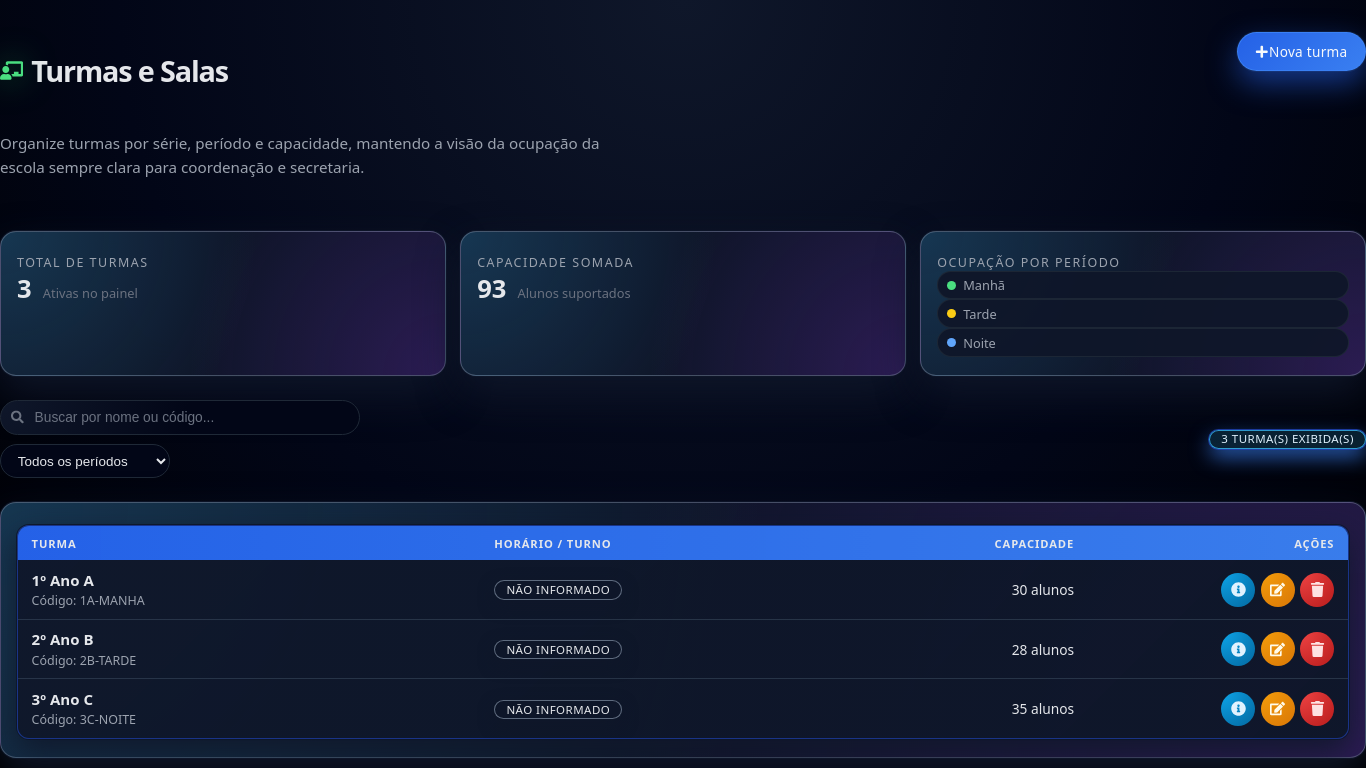
Test case: ClassRoomsPage (dashboard) › filtra por período (manhã, tarde, noite)
The image size is (1366, 768).
# Filtrar somente manhã
Select "Somente manhã" in the dropdown showing "Todos os períodos": (85, 461) [0, 444, 170, 478]
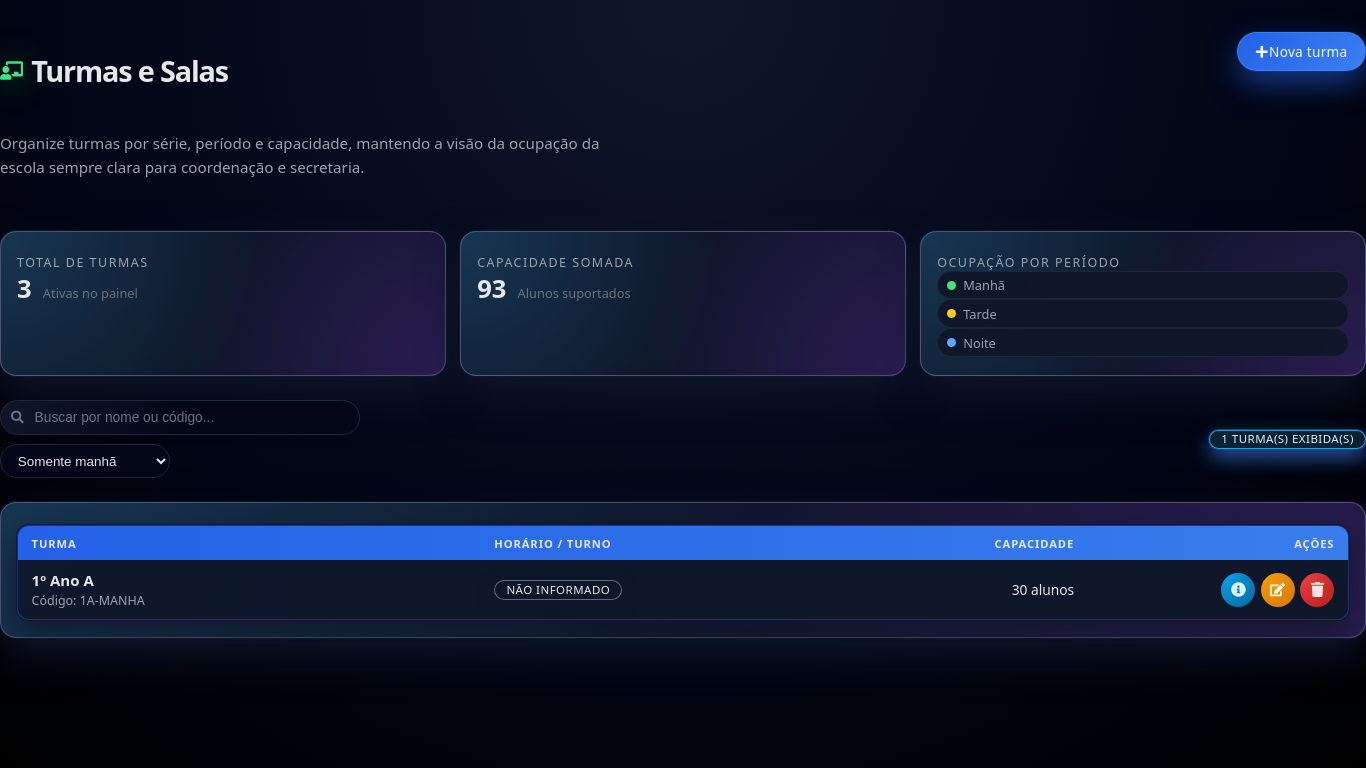
Expected: the text "1º Ano A" is shown, [32, 570, 94, 590]
Expected: the text "2º Ano B" is gone
Expected: the text "3º Ano C" is gone
# Filtrar somente noite
Select "Somente noite" in the dropdown showing "Todos os períodos": (85, 461) [0, 444, 170, 478]
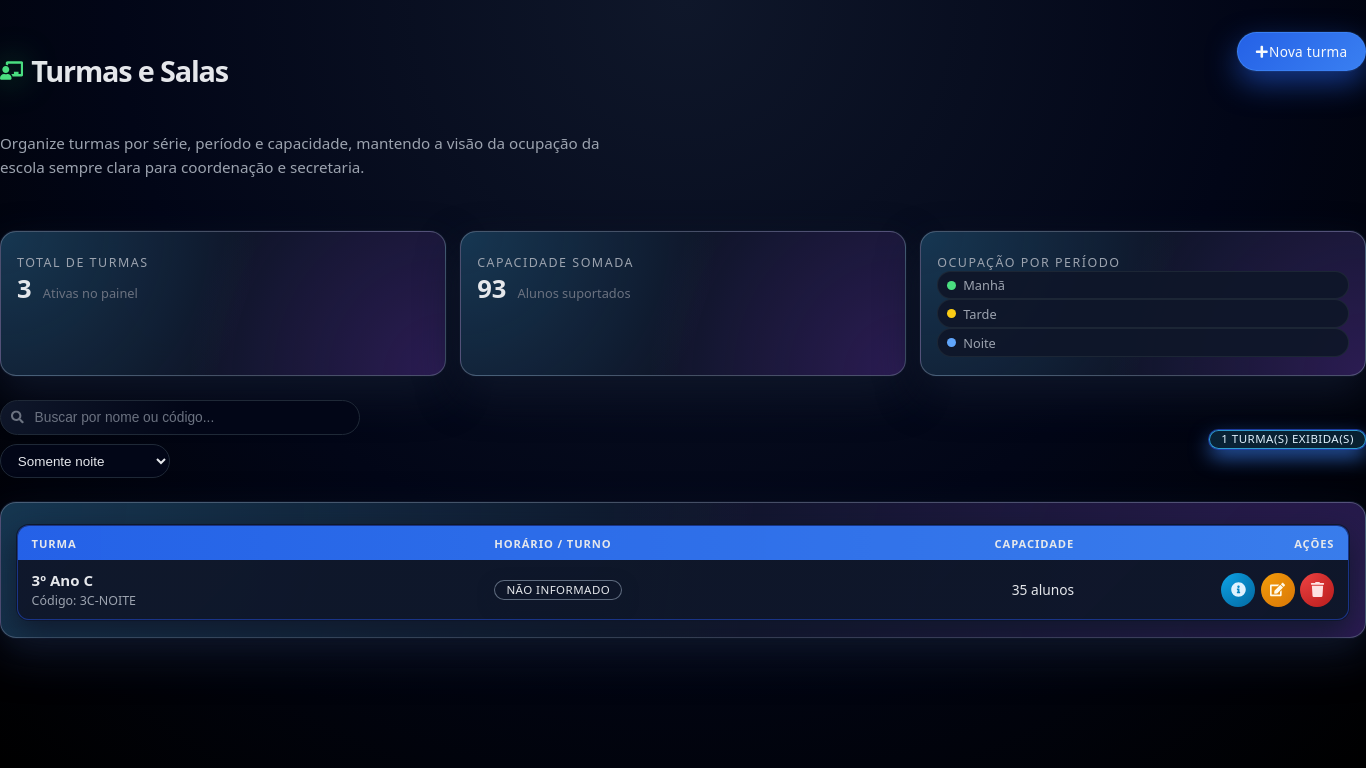
Expected: the text "2º Ano B" is not shown
Expected: the text "1º Ano A" is gone
Expected: the text "3º Ano C" is shown, [32, 570, 93, 590]
